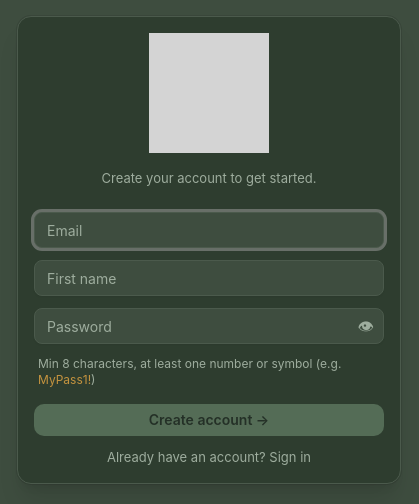
it: SignUpPage › signs up with the display name carried as Supabase user_metadata, then shows the check-email screen
Step 1. Type "newuser@example.com" into the field with placeholder "Email" → (209, 230), box [34,212,384,248]
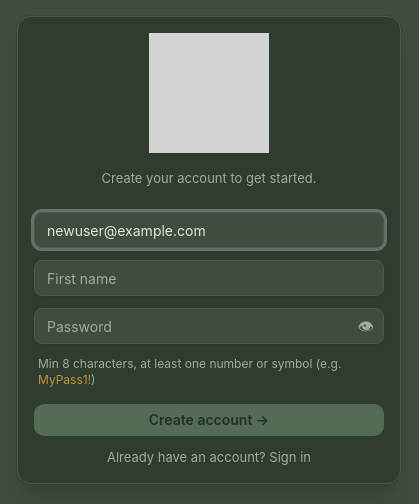
Step 2. Type "newuser" into the field with placeholder "First name" → (209, 278), box [34,260,384,296]
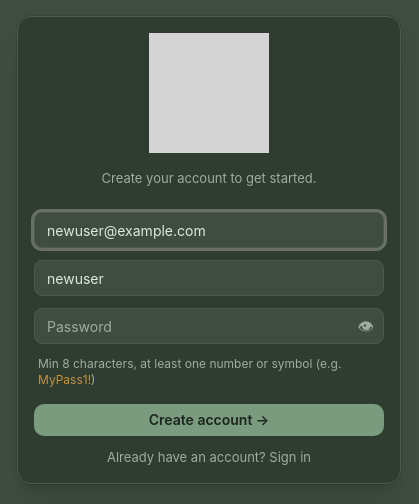
Step 3. Type "MyPass1!" into the password field with placeholder "Password" → (209, 326), box [34,308,384,344]
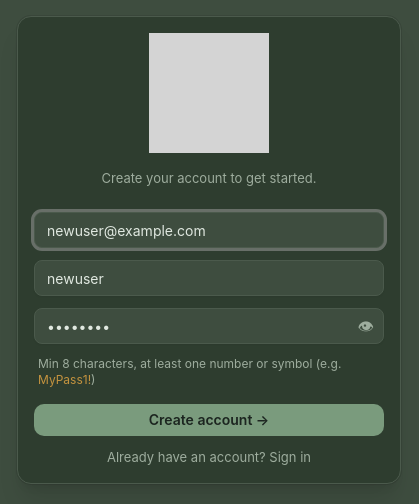
Now the button "Create account →" is enabled
Step 4. Click the button "Create account →" → click(209, 420), box [34,404,384,436]
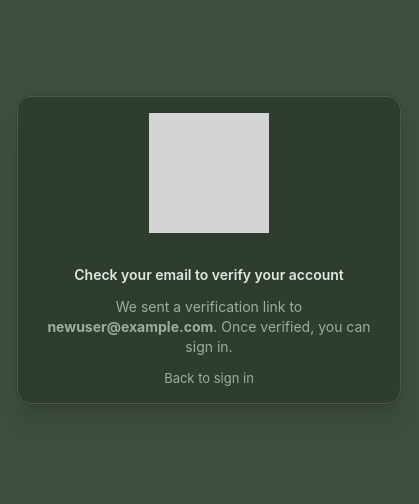
Now the text "Check your email to verify your account" is shown, box [74,266,344,283]
